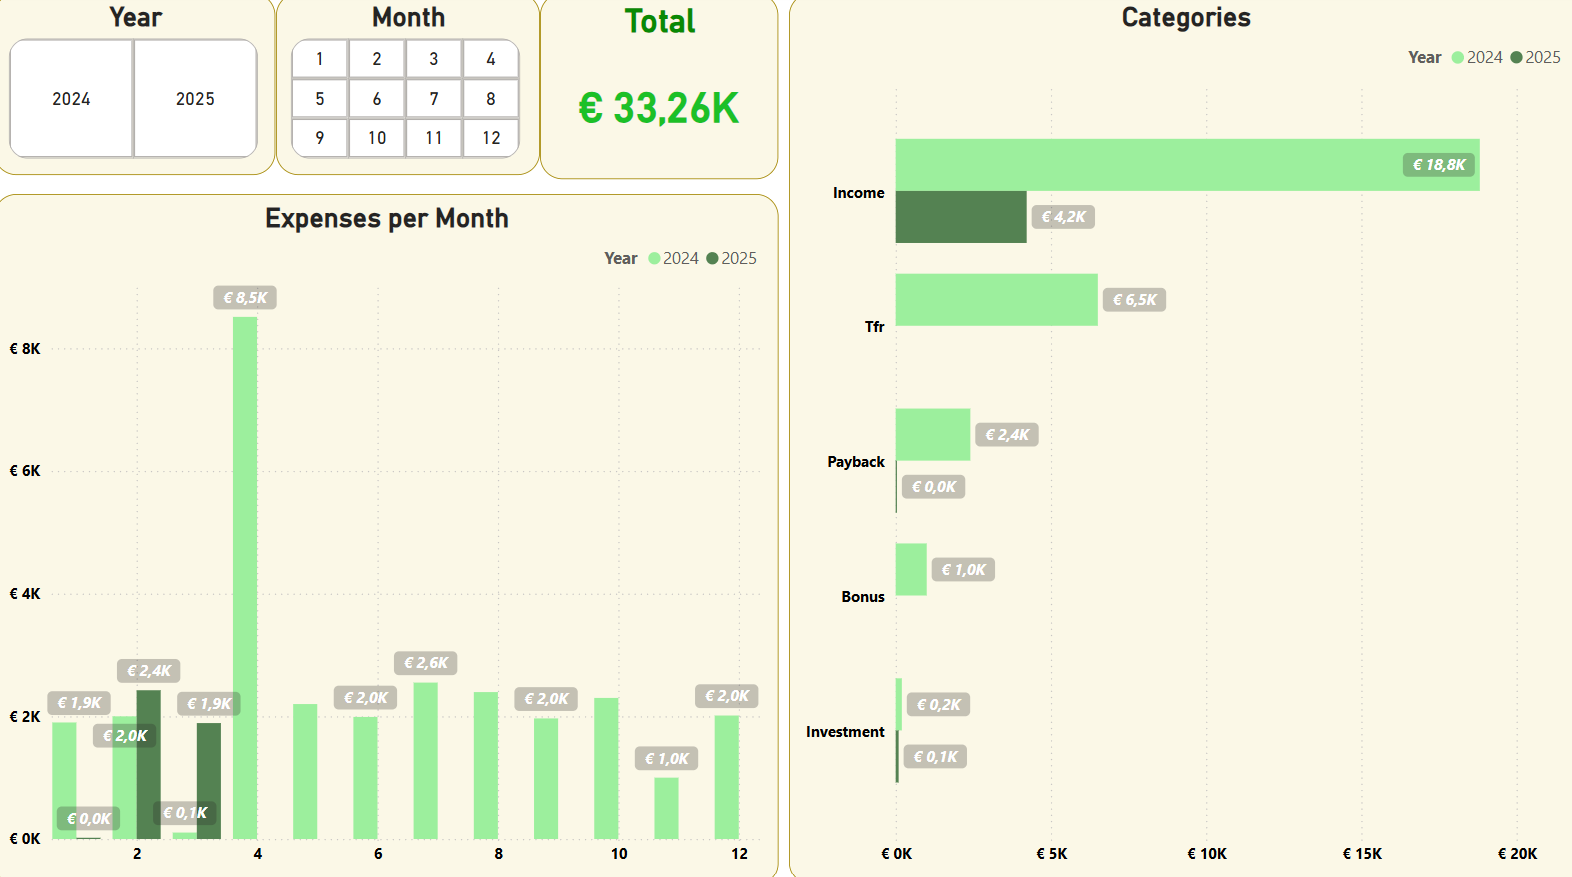

Layout of this report page (visuals, bound fields, positions):
{"tool":"powerbi","page":{"name":"Income","canvas":[1280,720],"ordinal":1},"visuals":[{"type":"advancedSlicerVisual","fields":{"Values":["Income.Year"]},"box":[0,0,226.9,146.5],"z":0},{"type":"advancedSlicerVisual","fields":{"Values":["Income.Month"]},"box":[226.9,0,212.5,146.5],"z":1000},{"type":"card","title":"Total","fields":{"Values":["Sum(Income.Amount)"]},"box":[439.8,0,192.1,149.8],"z":2000},{"type":"clusteredBarChart","title":"Categories","fields":{"Y":["Sum(Income.Amount)"],"Series":["Income.Year"],"Category":["Income.Name"]},"box":[640.4,0,639.2,718.9],"z":3000},{"type":"clusteredColumnChart","title":"Expenses per Month","fields":{"Category":["Income.Month"],"Y":["Sum(Income.Amount)"],"Series":["Income.Year"]},"box":[0,161.9,631.9,557],"z":4000}]}

Visuals, with their boxes in screenshot pixels (x1, y1, x2, y2), scaled from the page's 1280x720 canvas onto the 1572x877 screenshot:
advancedSlicerVisual - Income.Year: Rect(0, 0, 279, 178)
advancedSlicerVisual - Income.Month: Rect(279, 0, 540, 178)
"Total" card: Rect(540, 0, 776, 182)
"Categories" clusteredBarChart: Rect(786, 0, 1571, 876)
"Expenses per Month" clusteredColumnChart: Rect(0, 197, 776, 876)
